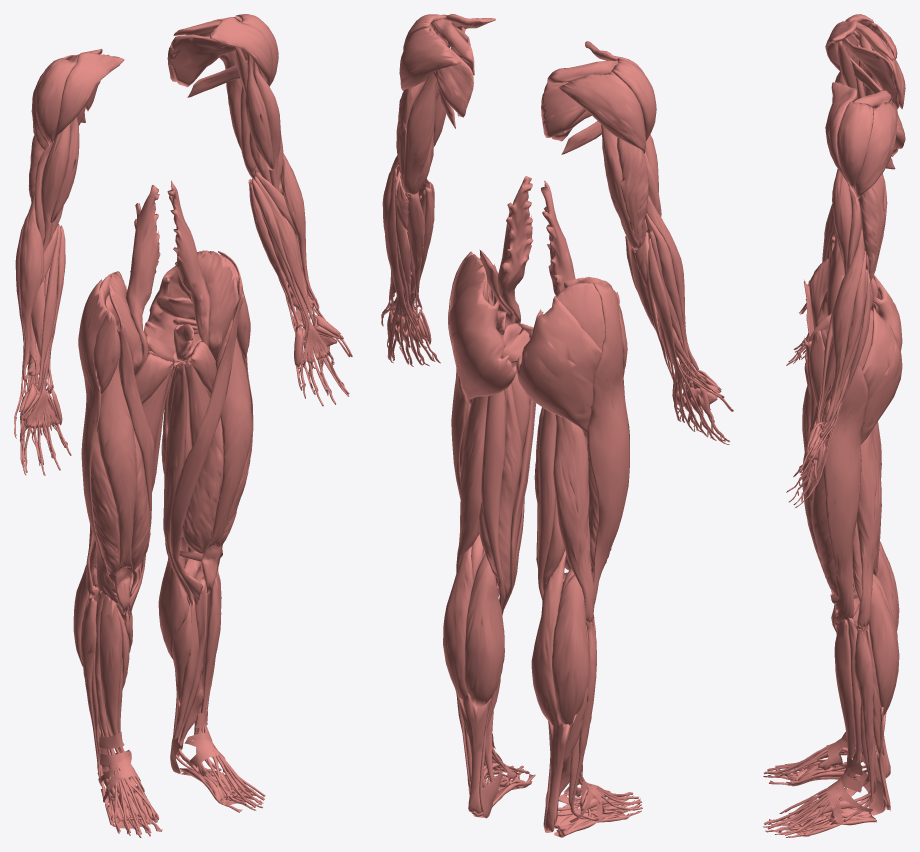
File: muscles_appendicular.glb
The picture shows the model from 3 angles, left to right: view 1: azimuth 30°, elevation 25°; view 2: azimuth 150°, elevation 25°; view 3: azimuth 270°, elevation 25°; orthographic projection. The views are drawn at different scales.
Visible parts, largest first — view 1: Muscles_Lower_Limb, Muscles_Upper_Limb; view 2: Muscles_Lower_Limb, Muscles_Upper_Limb; view 3: Muscles_Lower_Limb, Muscles_Upper_Limb.
Part boxes in pixels (box(x1,y1,x2,y2)): Muscles_Lower_Limb: box(73, 180, 265, 837); Muscles_Upper_Limb: box(14, 14, 352, 475); Muscles_Lower_Limb: box(443, 176, 642, 837); Muscles_Upper_Limb: box(381, 14, 733, 444); Muscles_Lower_Limb: box(763, 228, 902, 837); Muscles_Upper_Limb: box(786, 14, 905, 507).
Bounding box in the file's own units: 0.6598 × 1.42 × 0.2456.
